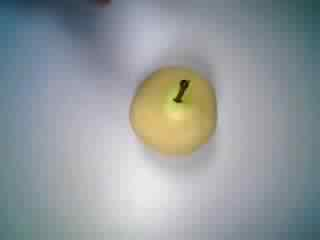pear: (123, 56, 228, 164)
